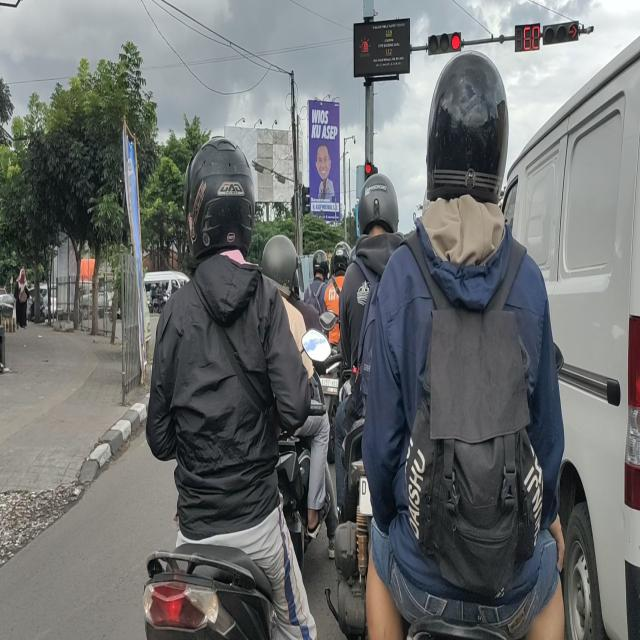helmet: (429, 53, 506, 200), (186, 138, 257, 267), (356, 174, 398, 245), (264, 233, 297, 288), (333, 247, 351, 273), (311, 252, 328, 279)
